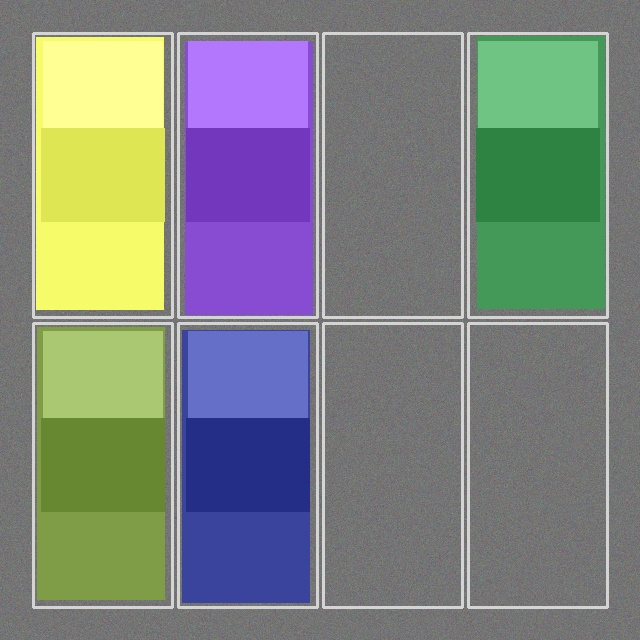space-empty: (325, 35, 460, 315), (325, 325, 460, 605), (470, 325, 605, 605)
space-occupied: (35, 35, 170, 315), (180, 35, 315, 315), (470, 35, 605, 315), (35, 325, 170, 605), (180, 325, 315, 605)
